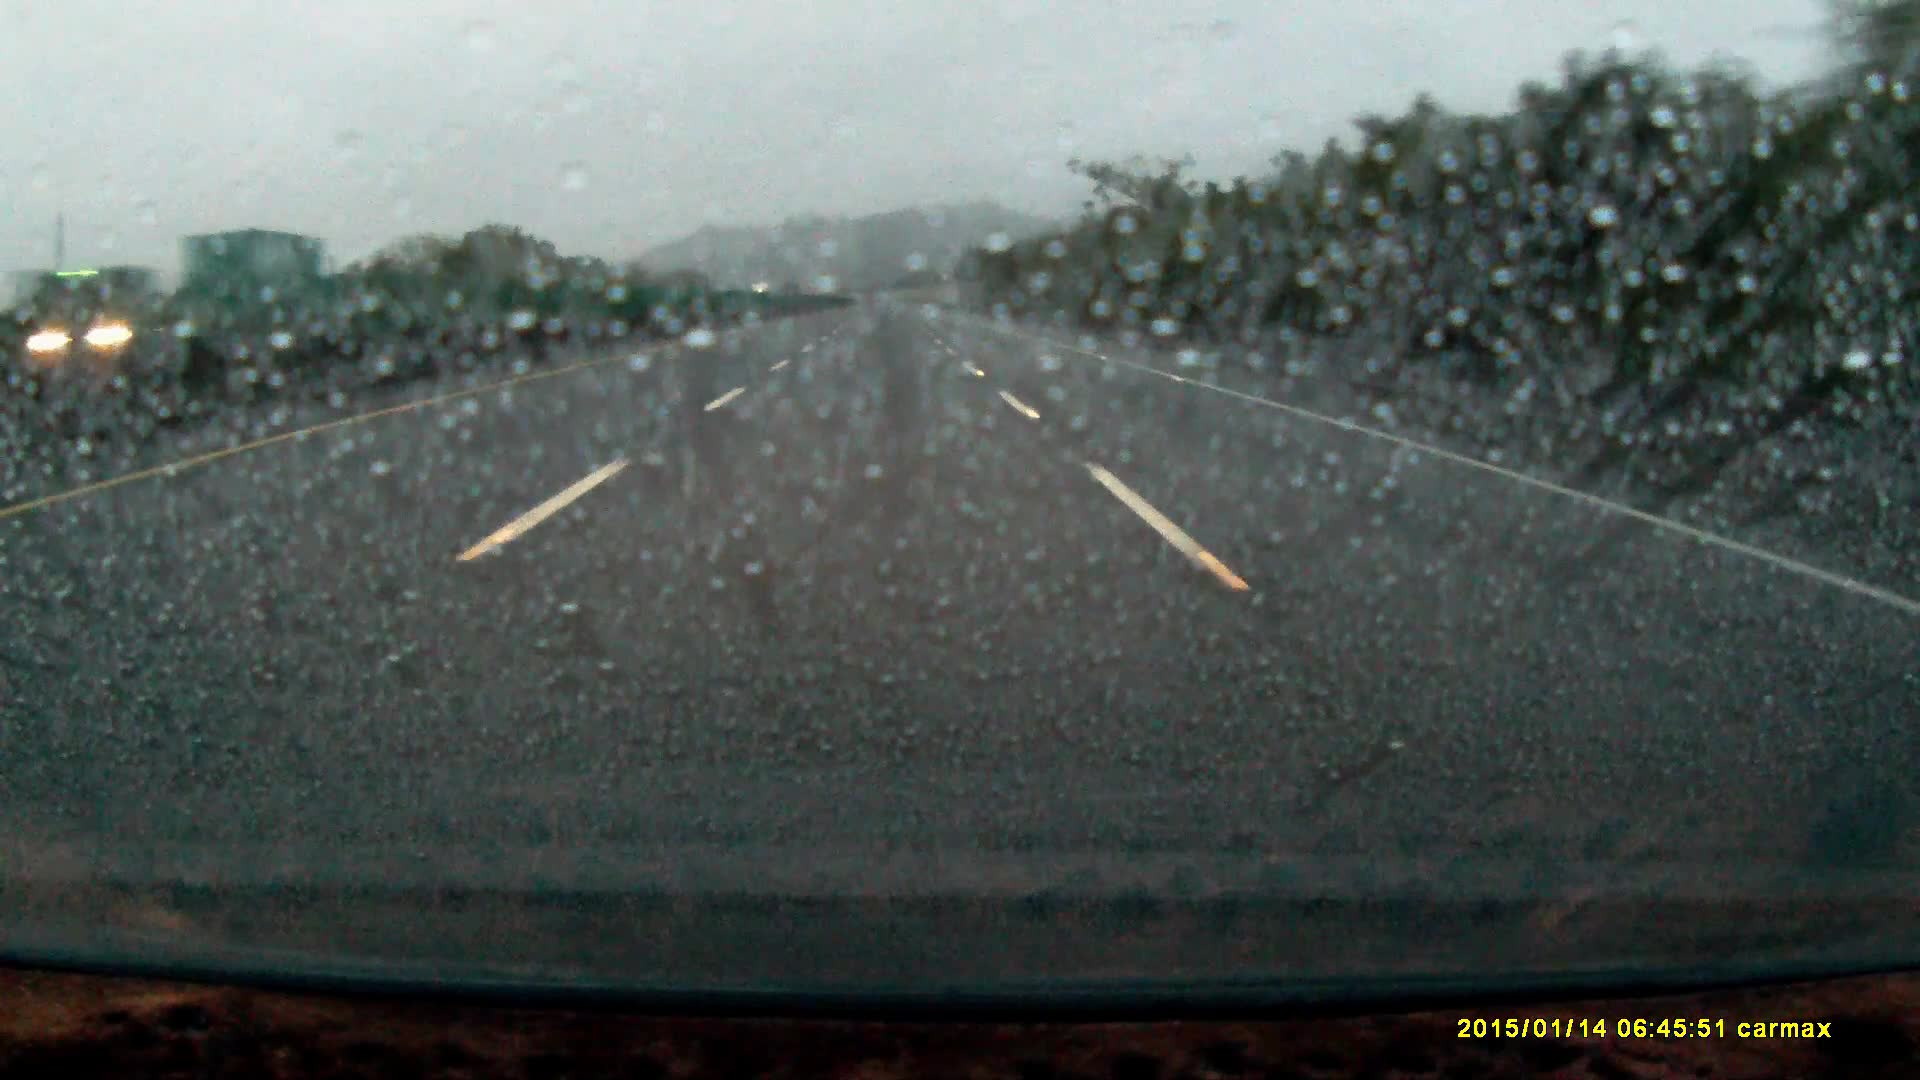vehicle: (25, 235, 331, 418)
